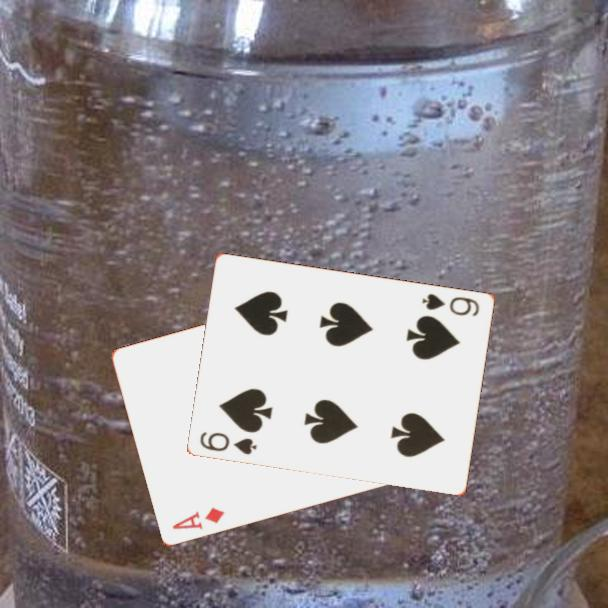d01: (168, 504, 227, 533)
s06: (419, 290, 483, 319), (197, 428, 260, 457)
